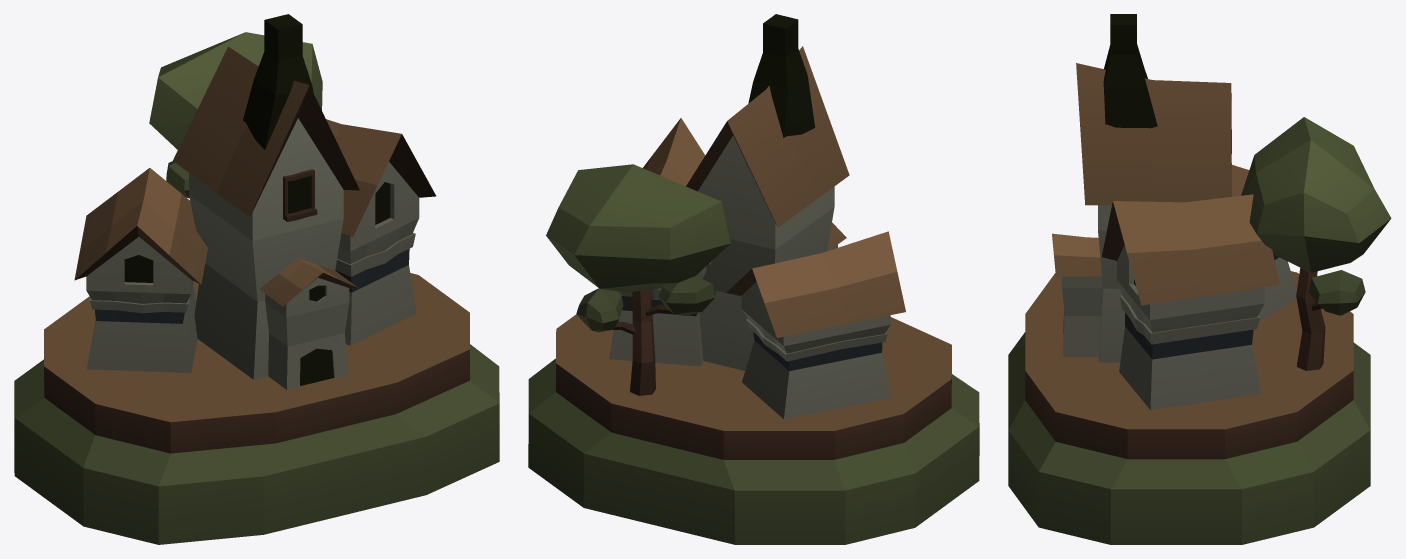
The model's file is settlement.glb.
3 views of the same model, side by side, from view 1: azimuth 30°, elevation 25°; view 2: azimuth 150°, elevation 25°; view 3: azimuth 270°, elevation 25° (orthographic). The views are drawn at different scales.
Parts seen in each view (by area): view 1: Settlement; view 2: Settlement; view 3: Settlement.
Part boxes in pixels (x1,y1,x2,y2): Settlement: [14, 14, 499, 544]; Settlement: [528, 14, 979, 544]; Settlement: [1008, 14, 1391, 544].
Bounding box in the file's own units: 5.45 × 5.62 × 4.56.
Materials: 1 (1 with a texture image).
